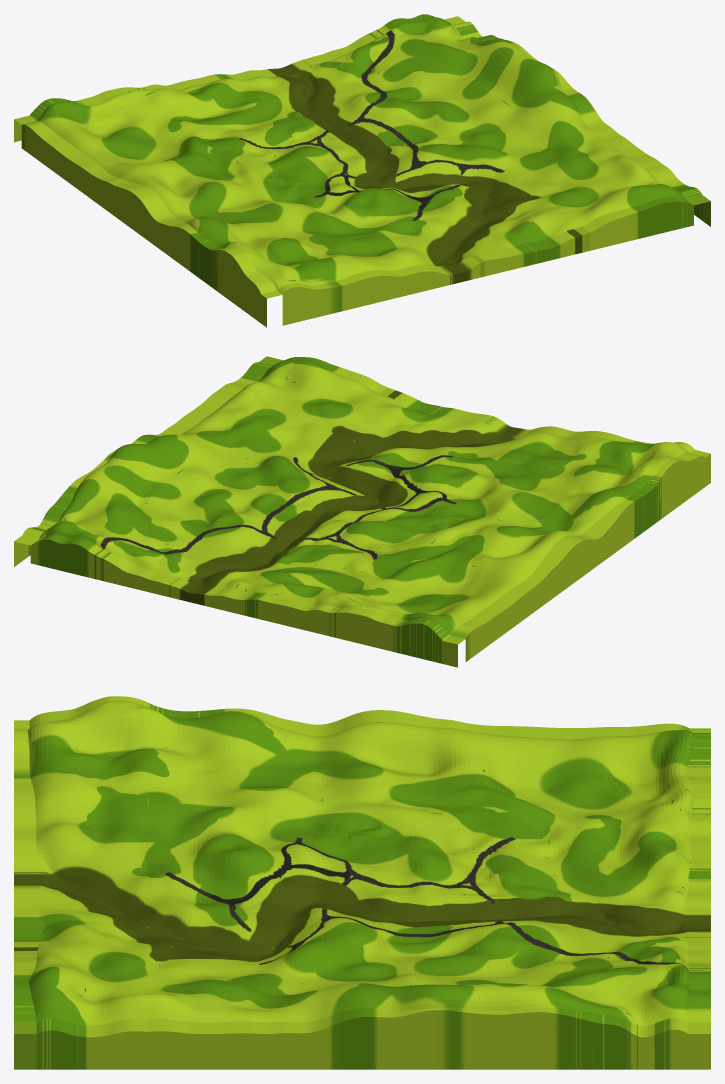
File: cobblestoneRoadReady_map.glb
3 views of the same model, one above another, from view 1: azimuth 30°, elevation 25°; view 2: azimuth 150°, elevation 25°; view 3: azimuth 270°, elevation 25° (orthographic). The views are drawn at different scales.
Parts seen in each view (by area): view 1: Plane; view 2: Plane; view 3: Plane.
Boxes of the visible parts, x1=… form: Plane: x1=14, y1=14, x2=710, y2=327; Plane: x1=14, y1=356, x2=710, y2=667; Plane: x1=14, y1=696, x2=710, y2=1069.
Size of the model in its own units: 652 by 76.97 by 644.
Materials: 1 (1 with a texture image).
